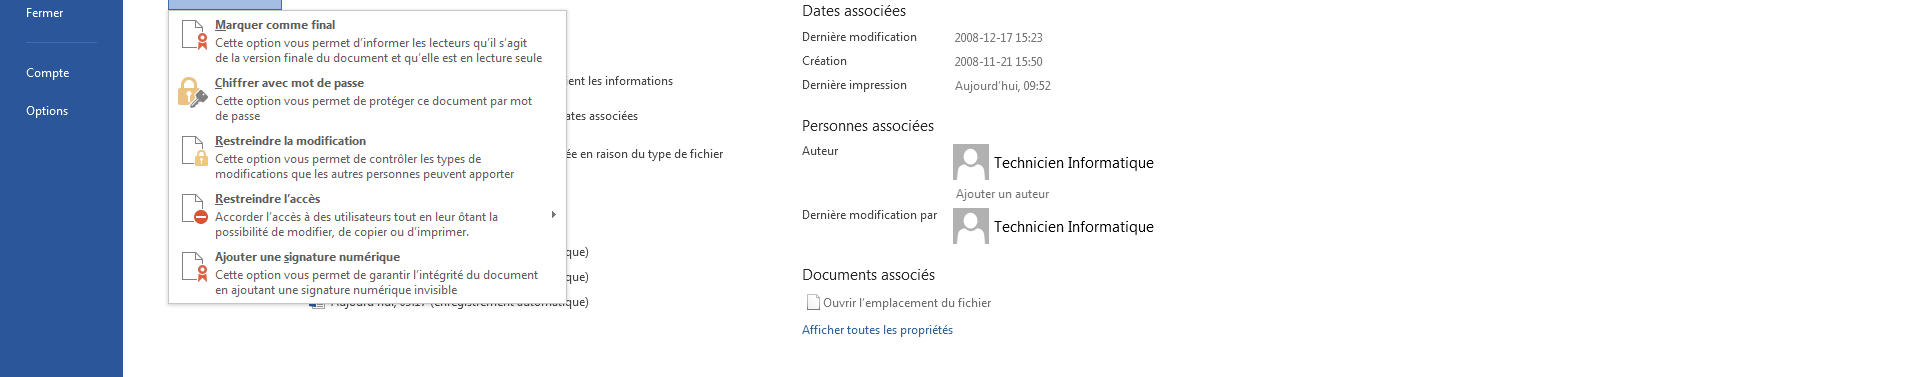texte: (807, 294, 991, 310), (471, 158, 514, 188), (953, 144, 989, 180), (424, 158, 465, 188), (958, 282, 993, 317), (1068, 157, 1153, 171), (803, 47, 846, 75), (955, 71, 997, 99), (216, 169, 311, 181), (1068, 222, 1153, 235), (802, 315, 842, 343), (216, 212, 309, 222), (803, 269, 877, 280), (847, 315, 876, 343), (336, 212, 416, 222), (994, 157, 1063, 168), (994, 222, 1063, 233), (339, 252, 400, 264), (407, 226, 467, 239), (216, 136, 280, 147), (216, 193, 280, 204), (803, 120, 868, 131), (462, 201, 485, 231), (354, 285, 411, 297), (845, 5, 906, 16), (873, 120, 934, 131), (216, 226, 268, 239), (284, 252, 336, 264), (178, 77, 200, 105), (396, 201, 415, 231), (296, 136, 366, 144), (882, 269, 936, 280), (182, 20, 203, 48), (182, 136, 203, 164), (182, 193, 203, 222), (182, 252, 203, 280), (216, 20, 263, 32), (606, 76, 673, 84), (850, 32, 916, 40), (850, 211, 916, 219), (901, 326, 953, 337), (333, 53, 388, 62), (370, 95, 414, 108), (432, 95, 487, 105), (414, 271, 463, 282), (301, 286, 350, 297), (1002, 71, 1020, 99), (288, 226, 334, 237), (216, 252, 257, 264), (294, 158, 310, 188), (216, 78, 260, 89), (231, 286, 276, 297), (353, 38, 409, 47), (955, 33, 1011, 42), (955, 58, 1011, 66), (850, 83, 906, 92), (956, 188, 996, 201), (482, 271, 538, 279), (27, 106, 69, 118), (369, 271, 410, 282), (367, 173, 420, 181), (404, 53, 440, 65), (369, 154, 418, 163), (589, 111, 638, 120), (803, 80, 846, 89), (313, 39, 350, 50), (313, 97, 350, 108), (313, 155, 350, 166), (313, 271, 350, 282), (803, 5, 840, 16), (246, 39, 280, 50), (246, 97, 280, 108), (246, 155, 280, 166), (246, 271, 280, 282), (315, 158, 327, 188), (803, 32, 846, 40), (803, 211, 846, 219), (415, 285, 457, 294), (284, 193, 320, 203), (802, 146, 838, 155), (430, 38, 470, 47), (478, 53, 512, 62), (500, 38, 527, 50), (190, 91, 208, 108), (437, 155, 465, 166), (687, 149, 722, 158), (943, 282, 951, 317), (284, 53, 313, 62), (334, 81, 364, 91), (354, 230, 387, 239), (1016, 190, 1049, 198), (331, 169, 362, 177), (473, 38, 495, 50), (516, 53, 542, 62), (216, 95, 242, 105), (1024, 81, 1051, 91), (266, 23, 309, 29), (648, 151, 671, 162), (47, 69, 69, 80), (231, 114, 260, 122), (311, 20, 336, 29), (242, 56, 280, 62), (216, 38, 242, 47), (216, 154, 242, 163), (216, 271, 242, 279), (1016, 33, 1042, 42), (1016, 58, 1042, 66), (195, 151, 208, 166), (193, 211, 208, 224), (436, 212, 456, 222), (598, 152, 627, 158), (511, 97, 531, 105), (313, 212, 331, 222), (291, 80, 313, 87), (573, 247, 588, 258), (573, 272, 588, 283), (573, 297, 588, 308), (262, 81, 288, 87), (284, 40, 309, 47), (284, 99, 309, 105), (284, 157, 309, 163), (305, 201, 310, 231), (284, 273, 309, 279), (198, 33, 207, 50), (491, 99, 507, 108), (921, 213, 937, 222), (316, 53, 329, 62), (353, 95, 366, 105), (271, 226, 284, 236), (338, 226, 351, 236), (260, 255, 280, 261), (442, 54, 457, 62), (216, 53, 228, 62), (569, 77, 585, 84), (571, 113, 587, 120), (413, 38, 426, 47), (317, 78, 331, 87), (353, 154, 366, 163), (468, 154, 481, 163), (353, 271, 366, 279), (589, 76, 602, 84), (884, 326, 898, 334), (279, 288, 298, 294), (216, 111, 228, 120), (421, 154, 433, 163), (467, 271, 479, 279), (632, 149, 644, 158), (675, 149, 686, 158), (391, 54, 400, 62), (389, 230, 403, 236), (419, 215, 431, 222), (999, 192, 1011, 198), (284, 136, 293, 144), (568, 149, 577, 158), (231, 53, 239, 62), (490, 212, 497, 222), (460, 56, 471, 62), (418, 99, 429, 105), (216, 288, 227, 294), (580, 152, 591, 158)
